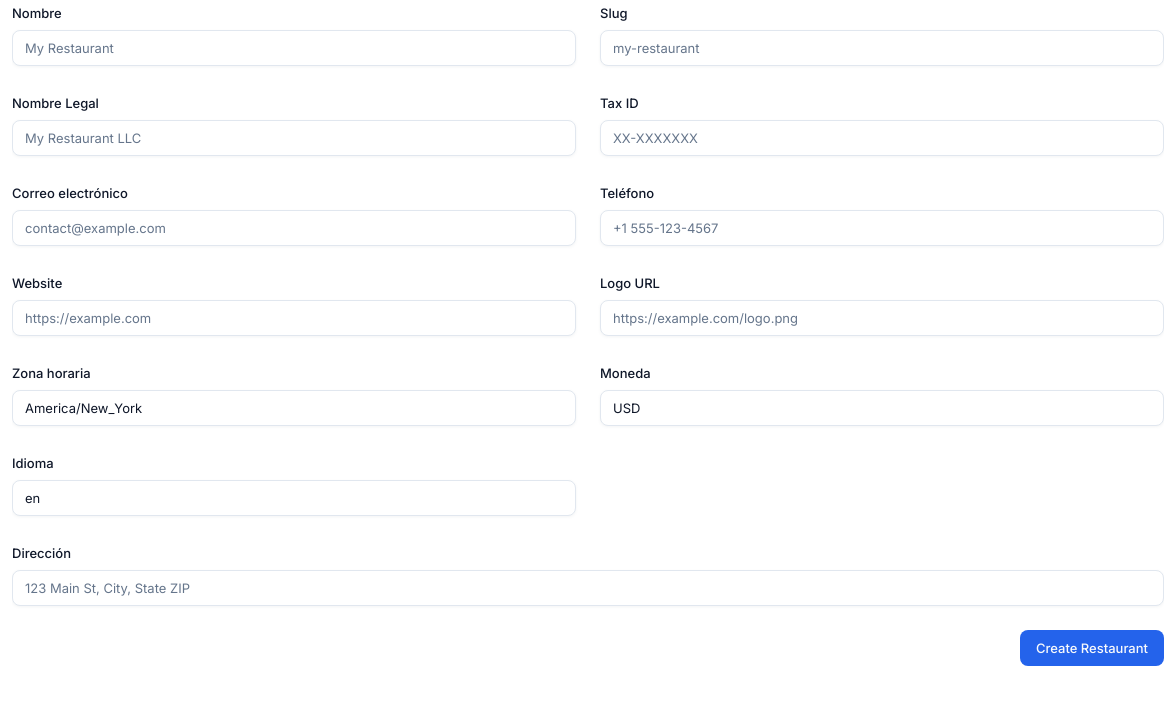
it: RestaurantForm › shows validation errors for required fields
The width and height of the screenshot is (1176, 720).
Click the button "Create Restaurant": [1092, 648] box 1020,630 -> 1164,666
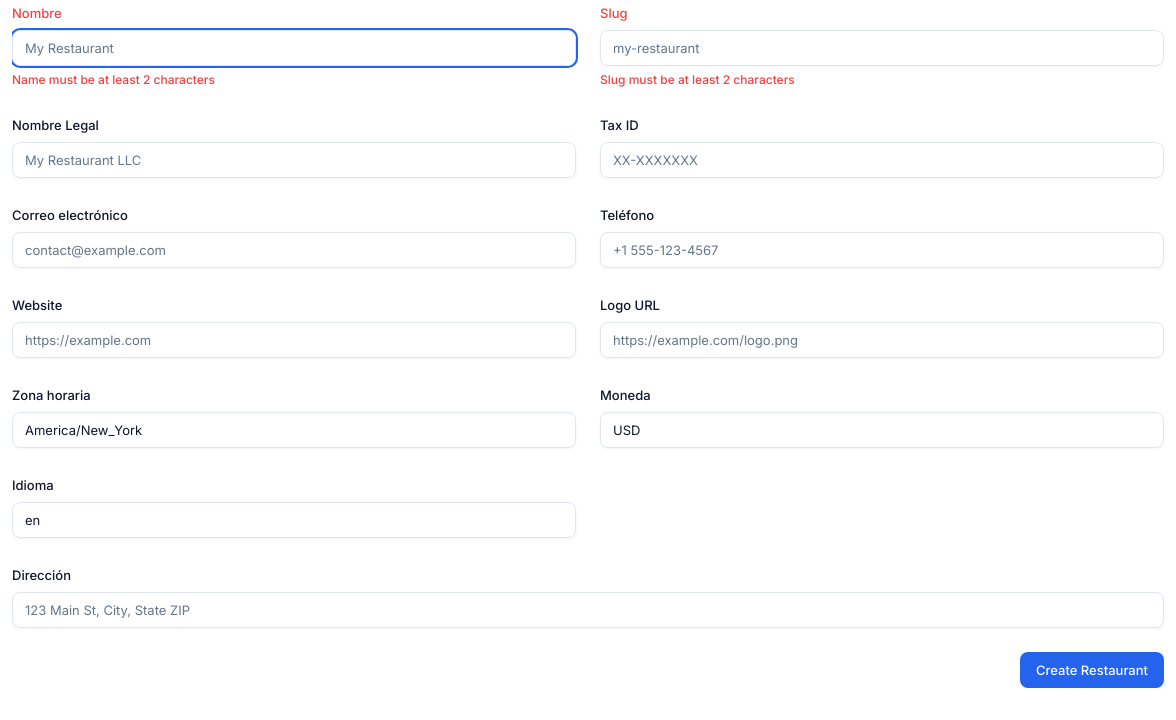
Check: the text "Name must be at least 2 characters" is shown, box 12,72 -> 215,87
